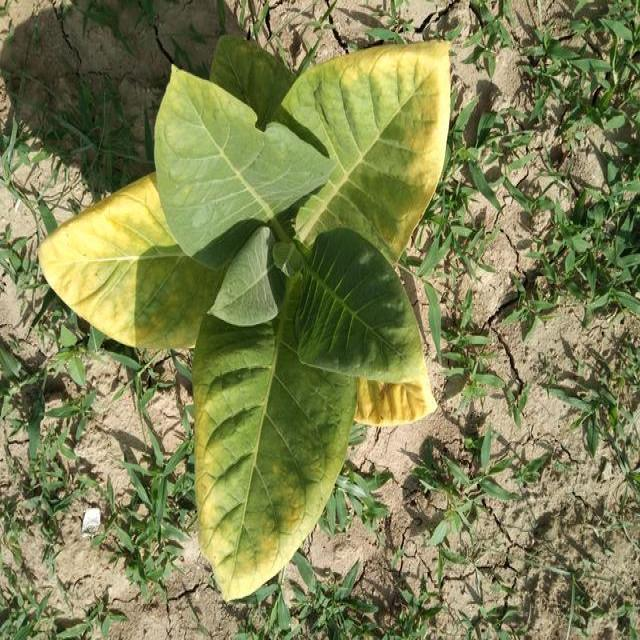crop: (32, 39, 459, 608)
